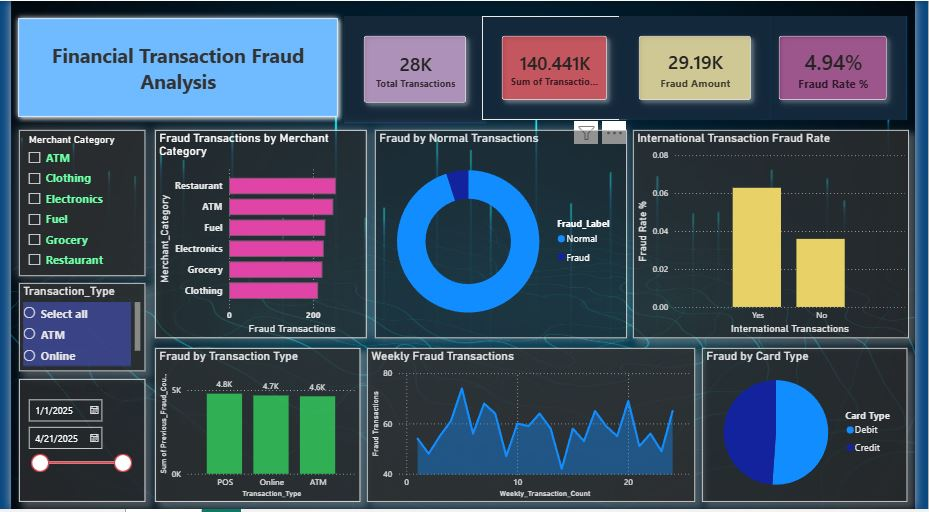

The dashboard page shown, as its layout file describes it:
{"tool":"powerbi","page":{"name":"Page 1","canvas":[1280,720],"ordinal":0},"visuals":[{"type":"cardVisual","fields":{"Data":["BankingFraud_Data.Total Transactions"]},"box":[472,21.3,201.3,151.7],"z":0},{"type":"cardVisual","fields":{"Data":["BankingFraud_Data.Fraud Rate %"]},"box":[1060.2,21.3,209.8,147.4],"z":1000},{"type":"cardVisual","fields":{"Data":["Sum(BankingFraud_Data.Transaction_Amount (in Million))"]},"box":[667.6,21.3,205.5,147.4],"z":2000},{"type":"cardVisual","fields":{"Data":["BankingFraud_Data.Fraud Amount"]},"box":[861.7,21.3,215.4,147.4],"z":3000},{"type":"shape","box":[1.4,15.6,470.6,157.3],"z":4000},{"type":"clusteredBarChart","title":"Fraud Transactions by Merchant Category","fields":{"Category":["BankingFraud_Data.Merchant_Category"],"Y":["BankingFraud_Data.Fraud Transactions"]},"box":[204.1,182.8,300.5,294.8],"z":5000},{"type":"donutChart","title":"Fraud by Normal Transactions ","fields":{"Y":["CountNonNull(BankingFraud_Data.Transaction_ID)"],"Category":["BankingFraud_Data.Fraud_Label"]},"box":[515.9,182.8,357.2,294.8],"z":6000},{"type":"columnChart","title":"Fraud by Transaction Type","fields":{"Category":["BankingFraud_Data.Transaction_Type"],"Y":["Sum(BankingFraud_Data.Previous_Fraud_Count)"]},"box":[204.1,491.8,290.6,218.3],"z":7000},{"type":"pieChart","title":"Fraud by Card Type","fields":{"Category":["BankingFraud_Data.Card_Type"],"Y":["Sum(BankingFraud_Data.Previous_Fraud_Count)"]},"box":[979.4,491.8,290.6,218.3],"z":8000},{"type":"lineClusteredColumnComboChart","title":"International Transaction Fraud Rate","fields":{"Category":["BankingFraud_Data.Is_International_Transaction"],"Y":["BankingFraud_Data.Fraud Rate %"]},"box":[881.6,182.8,391.2,294.8],"z":9000},{"type":"stackedAreaChart","title":"Weekly Fraud Transactions","fields":{"Y":["BankingFraud_Data.Fraud Transactions"],"Category":["BankingFraud_Data.Weekly_Transaction_Count"]},"box":[504.6,491.8,464.9,218.3],"z":10000},{"type":"slicer","fields":{"Values":["BankingFraud_Data.Merchant_Category"]},"box":[11.3,182.8,178.6,206.9],"z":11000},{"type":"listSlicer","fields":{"Values":["BankingFraud_Data.Transaction_Type"]},"box":[11.3,399.7,178.6,124.7],"z":12000},{"type":"slicer","fields":{"Values":["BankingFraud_Data.Transaction_Date"]},"box":[11.3,535.7,178.6,174.3],"z":13000}]}

Visuals, with their boxes in screenshot pixels (x1, y1, x2, y2), scaled from the page's 1280x720 canvas onto the 929x512 screenshot:
cardVisual - BankingFraud_Data.Total Transactions: (x1=343, y1=15, x2=489, y2=123)
cardVisual - BankingFraud_Data.Fraud Rate %: (x1=769, y1=15, x2=922, y2=120)
cardVisual - Sum(BankingFraud_Data.Transaction_Amount (in Million)): (x1=485, y1=15, x2=634, y2=120)
cardVisual - BankingFraud_Data.Fraud Amount: (x1=625, y1=15, x2=782, y2=120)
shape: (x1=1, y1=11, x2=343, y2=123)
"Fraud Transactions by Merchant Category" clusteredBarChart: (x1=148, y1=130, x2=366, y2=340)
"Fraud by Normal Transactions " donutChart: (x1=374, y1=130, x2=634, y2=340)
"Fraud by Transaction Type" columnChart: (x1=148, y1=350, x2=359, y2=505)
"Fraud by Card Type" pieChart: (x1=711, y1=350, x2=922, y2=505)
"International Transaction Fraud Rate" lineClusteredColumnComboChart: (x1=640, y1=130, x2=924, y2=340)
"Weekly Fraud Transactions" stackedAreaChart: (x1=366, y1=350, x2=704, y2=505)
slicer - BankingFraud_Data.Merchant_Category: (x1=8, y1=130, x2=138, y2=277)
listSlicer - BankingFraud_Data.Transaction_Type: (x1=8, y1=284, x2=138, y2=373)
slicer - BankingFraud_Data.Transaction_Date: (x1=8, y1=381, x2=138, y2=505)
